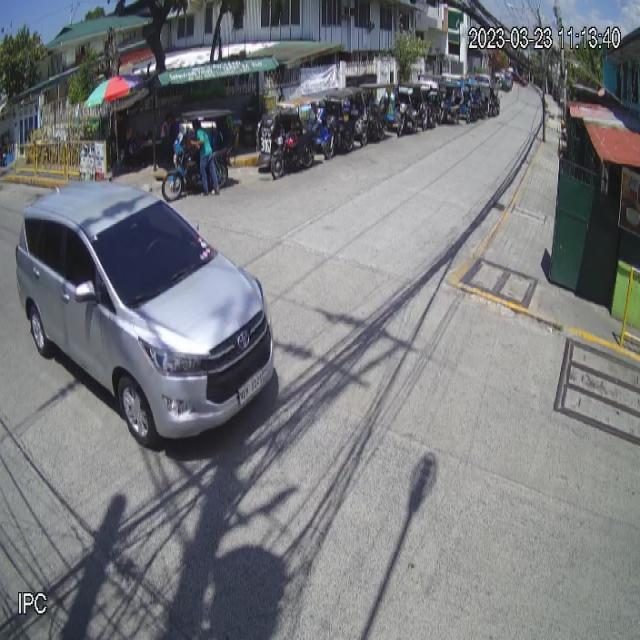Car: (14, 178, 276, 448)
